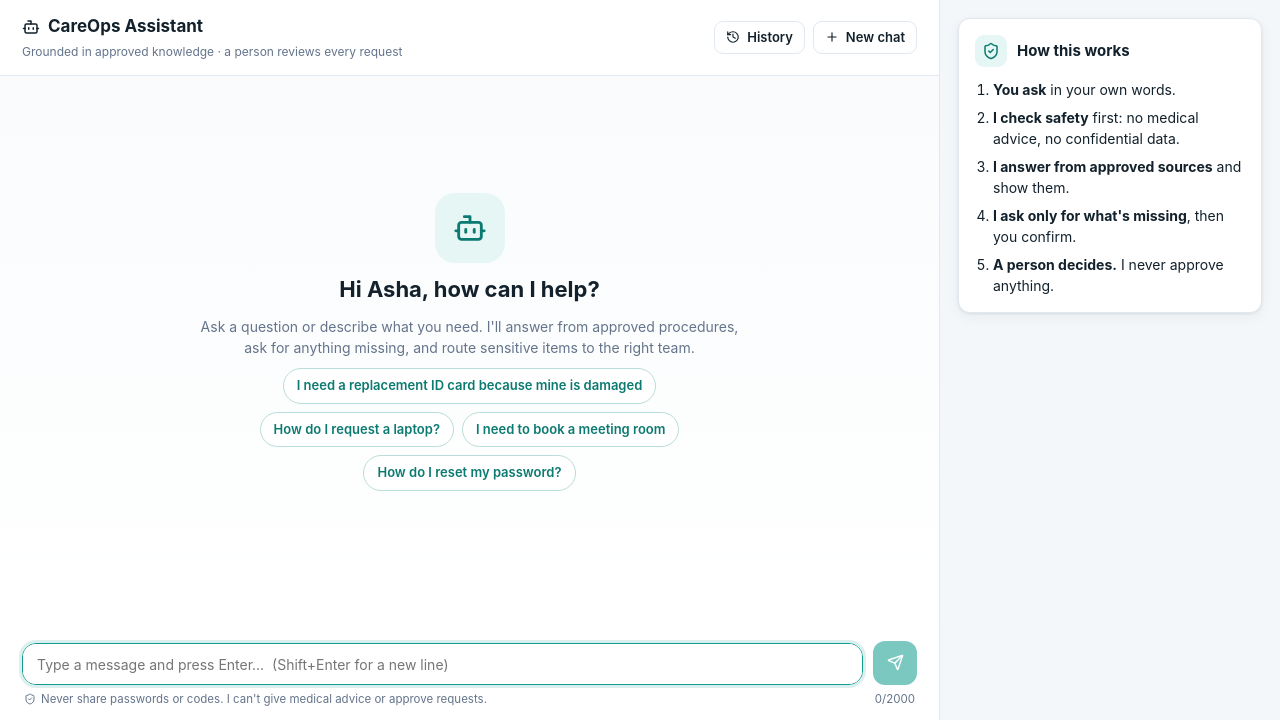
Scenario: chat box › sends on Enter, clears the input and shows the reply to 'hi'
This screenshot has width=1280, height=720.
Step 1. Type "hi" into the text box labelled "message" → point(442, 664), box x1=22 y1=643 x2=863 y2=685
Then press Enter
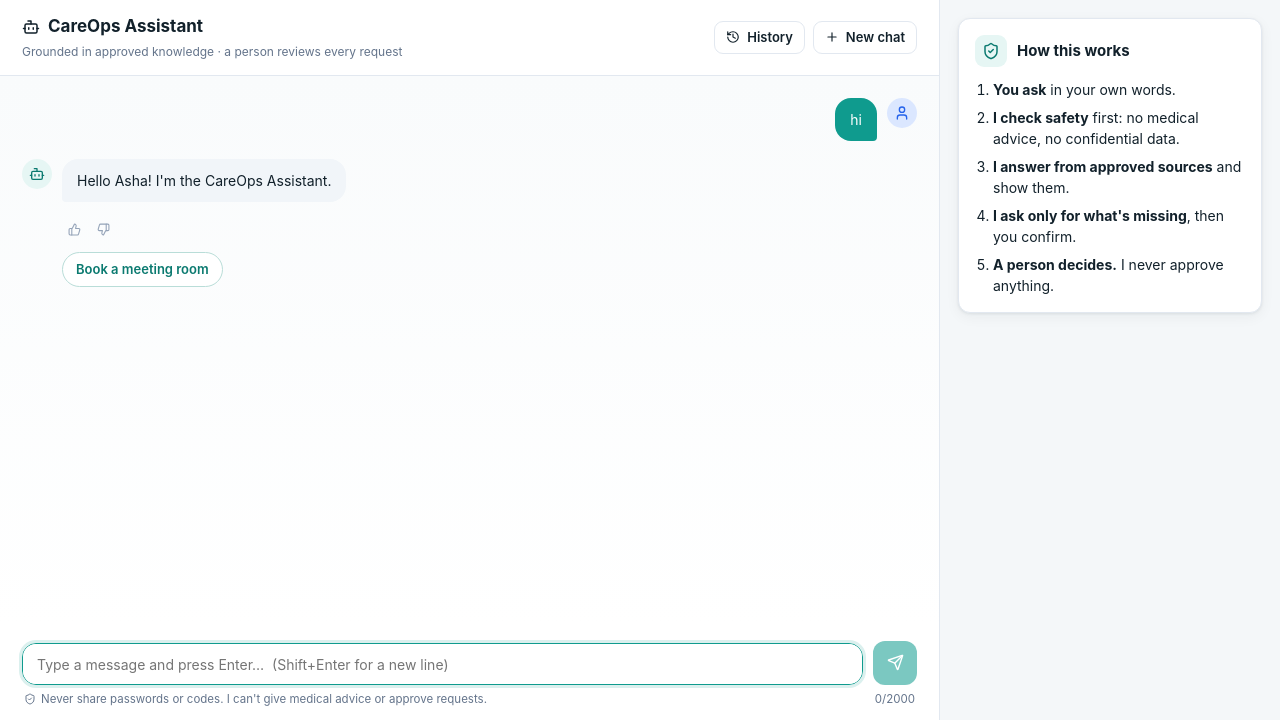
Expected: the text "hi" is shown, x1=835 y1=98 x2=877 y2=140
Now the text "Hello Asha! I'm the CareOps Assistant." is shown, box x1=77 y1=170 x2=332 y2=190
